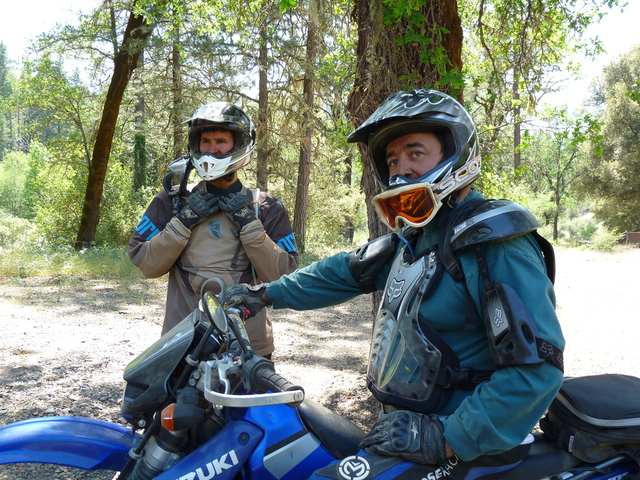helmet: (353, 105, 482, 206), (185, 99, 258, 180)
